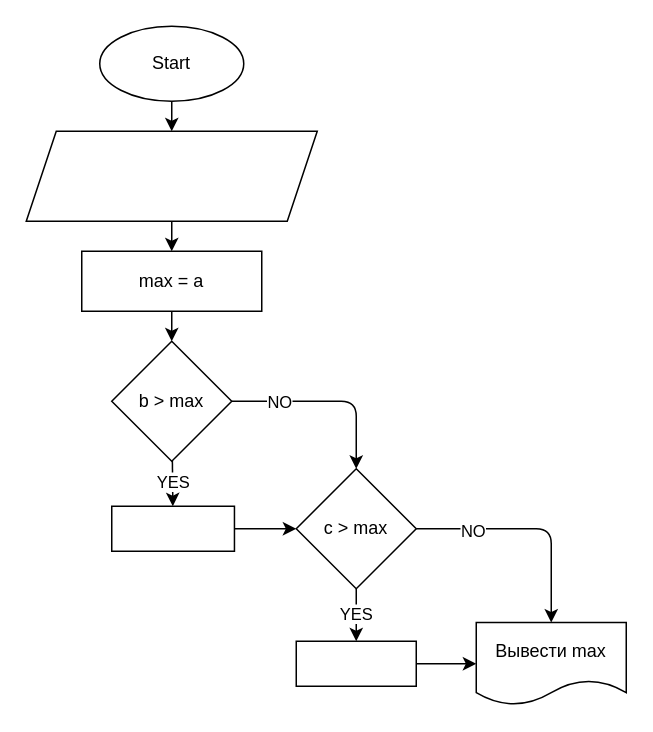
This 653x732 diagram has some shape labels left out. Each missing label, with the centre of its shape:
max = b: the point at 172,528
max = c: the point at 355,663
Введите число a Введите число b Введите число c: the point at 171,175
